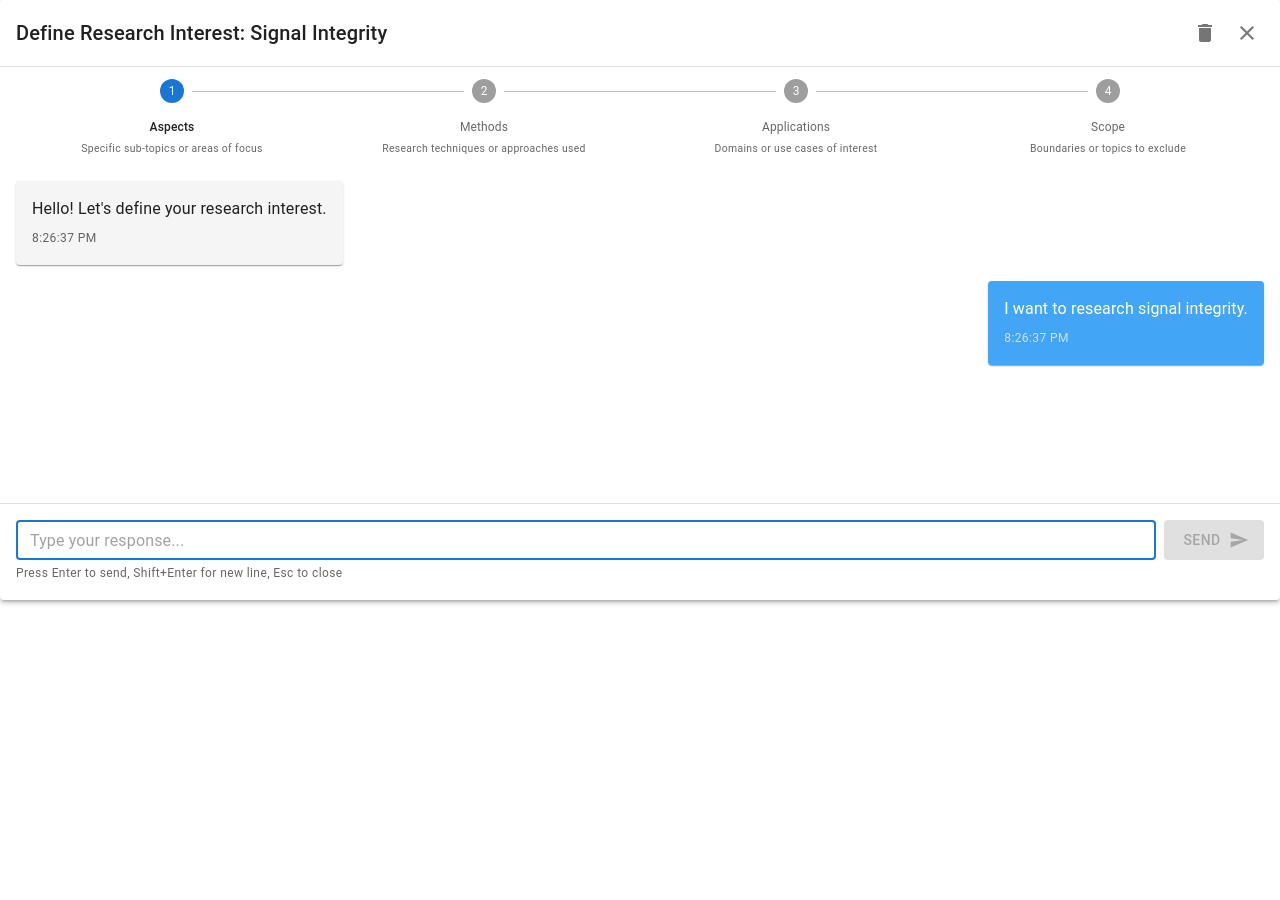
Scenario: ChatbotUI Accessibility › Conversation History Deletion (Task 15.1) › should display error message if deletion fails
Click the button named "Delete conversation history" at (1205, 33), box x1=1188 y1=16 x2=1222 y2=50
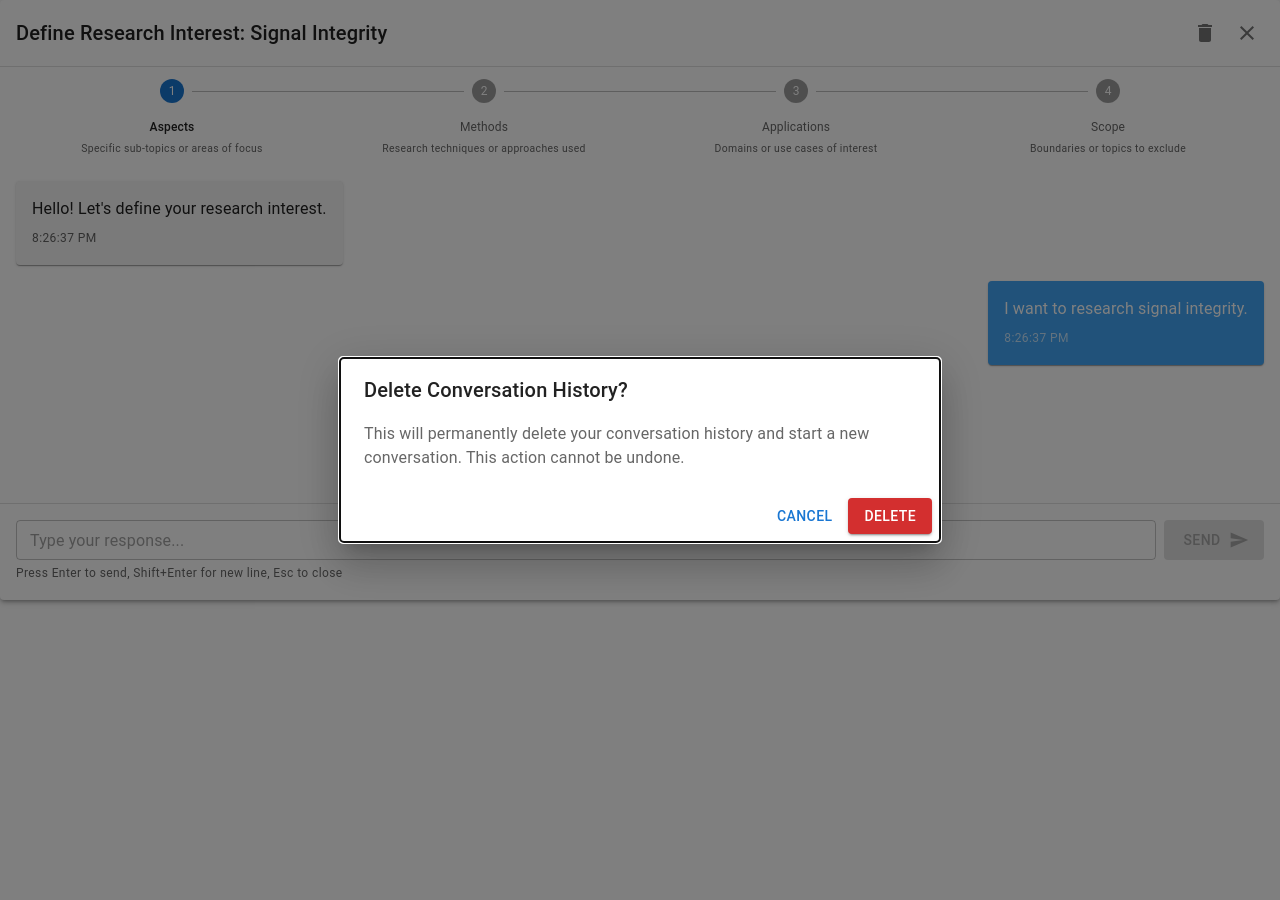
Click the button with aria-label "Confirm deletion" at (890, 516), box x1=848 y1=498 x2=932 y2=534
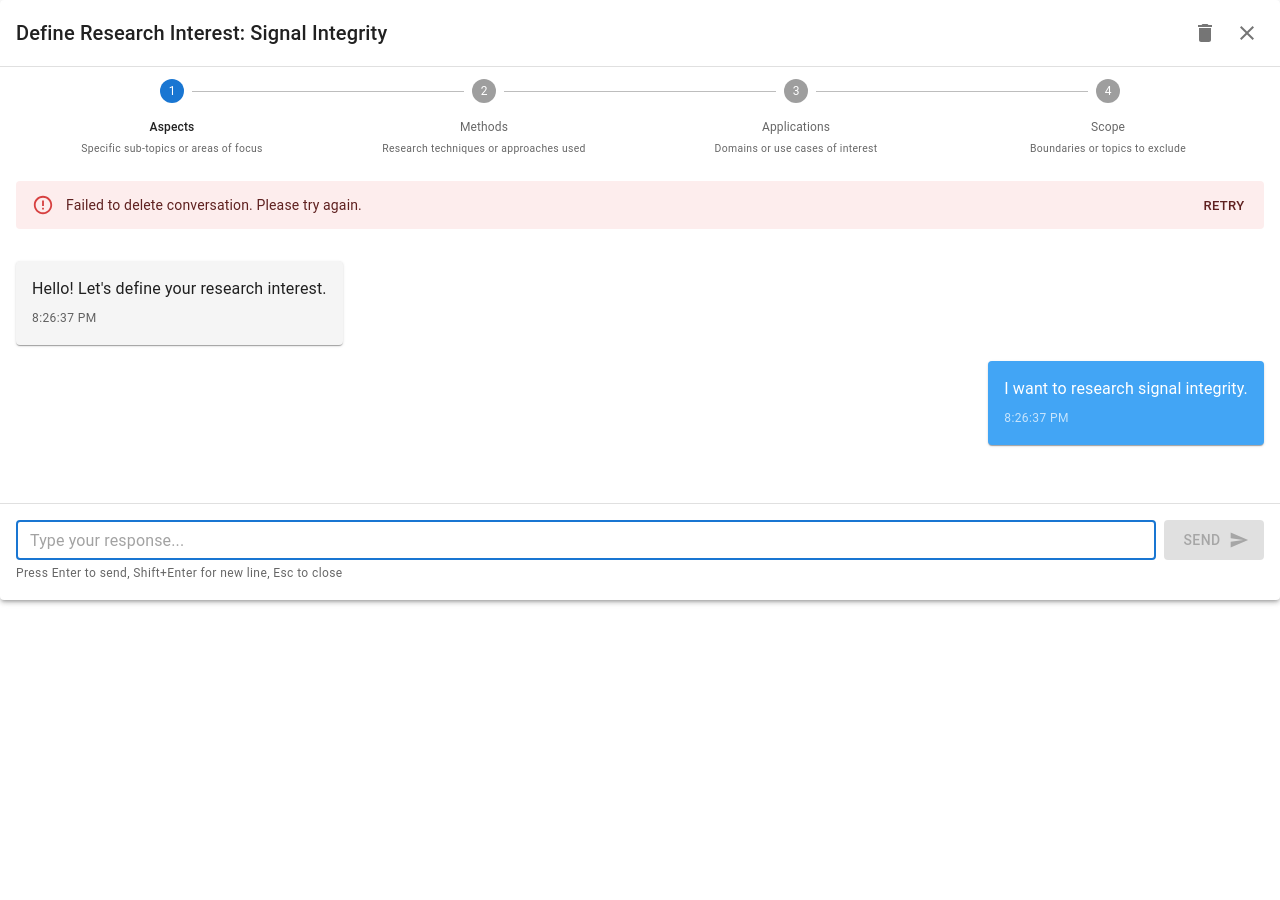
Expected: the text "Failed to delete conversation. Please try again." is shown, x1=66 y1=197 x2=362 y2=213
